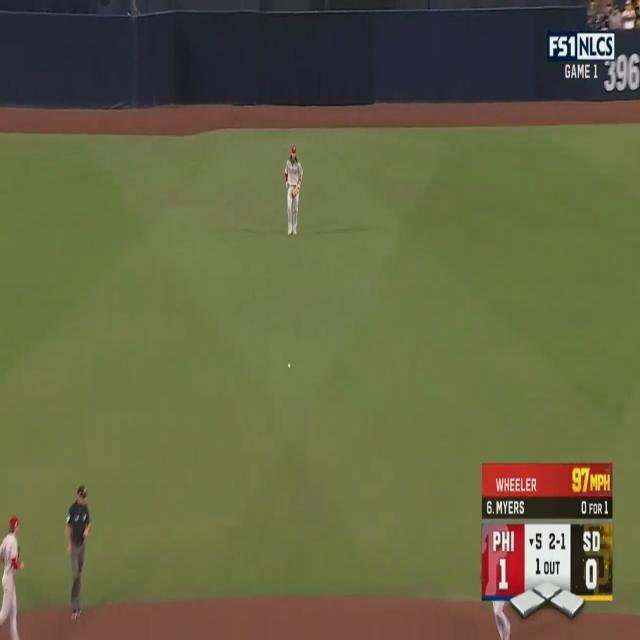baseball: (288, 363, 290, 368)
